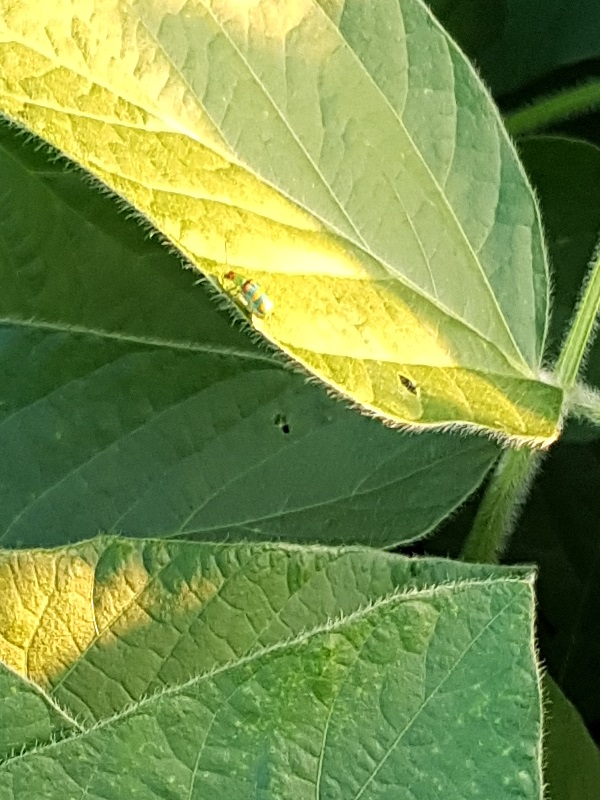Diabrotica_speciosa: (203, 252, 289, 345)
